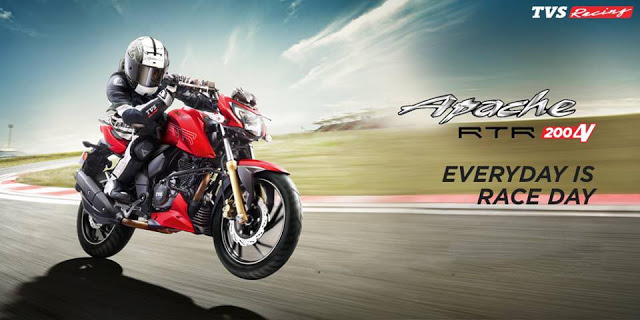helmet: (125, 39, 169, 102)
